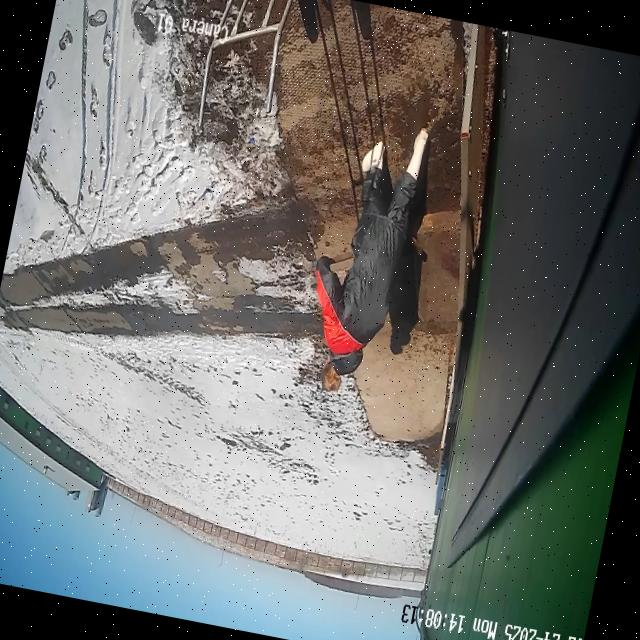Red uniform: (315, 127, 431, 392)
